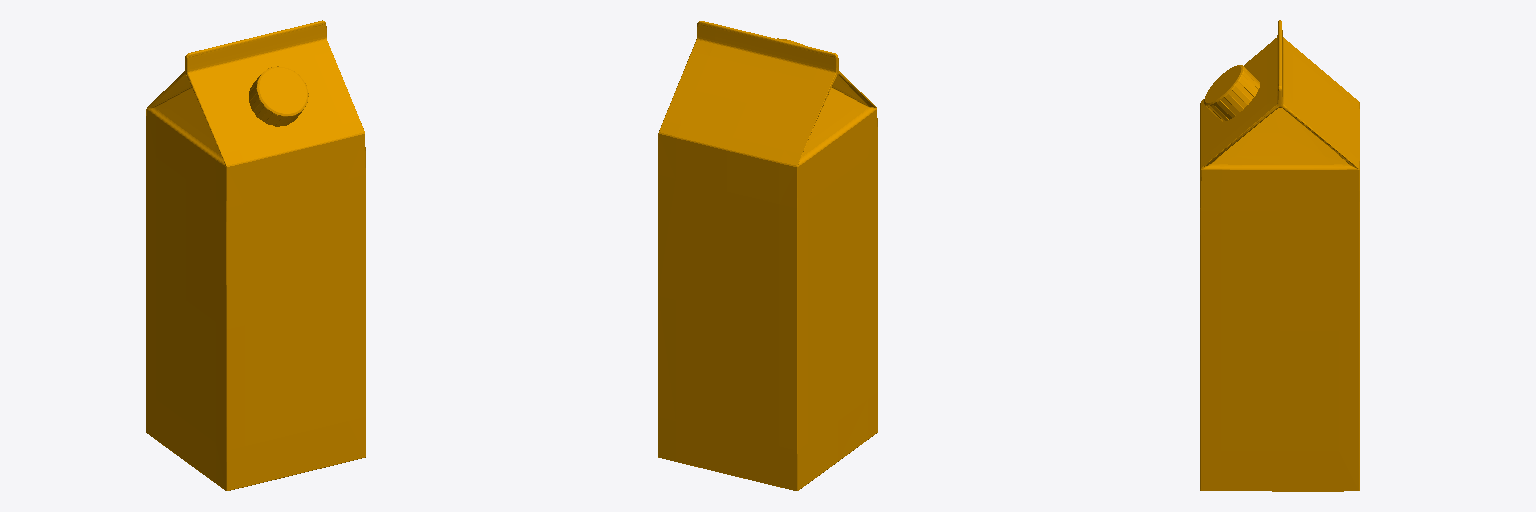
URDF robot description (none):
<robot name="none">
       <link name="none">
           <visual>
               <origin rpy="1.57 0 0" xyz="0 0 0" />
               <geometry>
                   <mesh filename="tetrapak.obj" />
               </geometry>
           </visual>
          <collision>
              <geometry>
                  <box size="0.360553 1.000000 0.359236" />
              </geometry>
          </collision>

          <inertial>
            <mass value="0.0" />
            <inertia ixx="0.0" ixy="0.0" ixz="0.0" iyy="0.0" iyz="0.0" izz="0.0" />
          </inertial>
      </link>
  </robot>

--- Render facts (derived) ---
3 views of the same robot in one strip: view 1: azimuth 30°, elevation 25°; view 2: azimuth 150°, elevation 25°; view 3: azimuth 270°, elevation 25° (orthographic).
Model none with 1 links and 0 joints (none), rooted at none, posed all joints at 0.
Visible links, largest first — view 1: none; view 2: none; view 3: none.
Link boxes in pixels (<box>): none: <box>146,20,365,490</box>; none: <box>658,21,877,490</box>; none: <box>1200,20,1359,491</box>.
Size in the robot's own frame: 0.3606 by 0.3595 by 1 metres.
Meshes: 1 distinct files referenced, 1 mesh visuals loaded (1 OBJ).